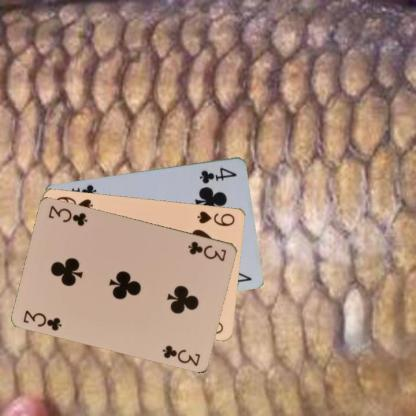3c: (20, 307, 64, 332), (186, 238, 228, 262)
4c: (197, 162, 238, 184)
9s: (195, 208, 236, 227)
